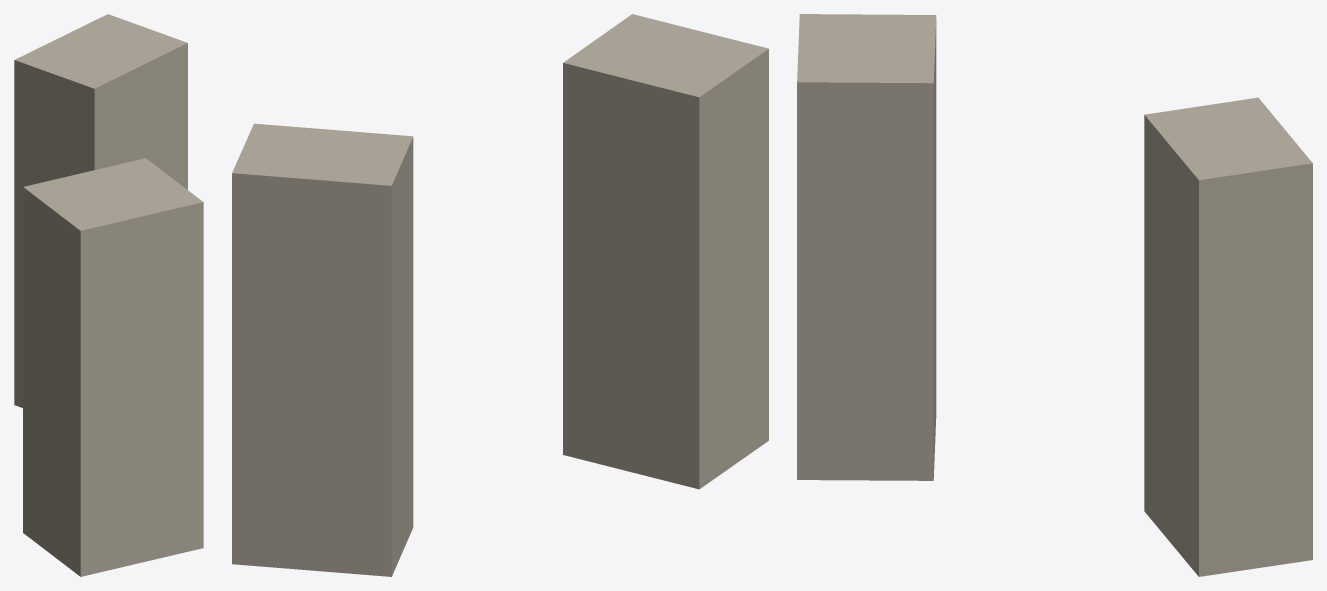
File: kalkara_67_25_collision.glb
3 views of the same model, side by side, from view 1: azimuth 30°, elevation 25°; view 2: azimuth 150°, elevation 25°; view 3: azimuth 270°, elevation 25° (orthographic). The views are drawn at different scales.
Parts seen in each view (by area): view 1: geometry_0; view 2: geometry_0; view 3: geometry_0.
Part boxes in pixels (<box>): geometry_0: <box>14,14,203,576</box>; geometry_0: <box>232,14,768,576</box>; geometry_0: <box>797,14,1312,576</box>.
Bounding box in the file's own units: 8.68 × 10.42 × 12.02.
